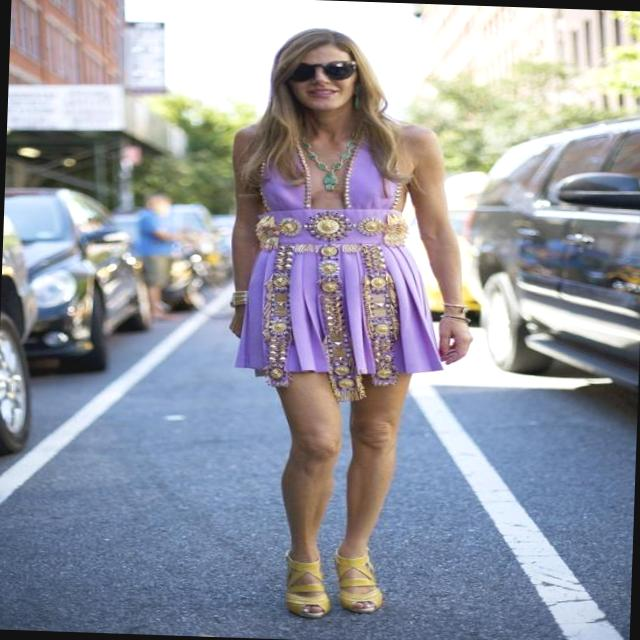dress: (233, 109, 452, 378)
